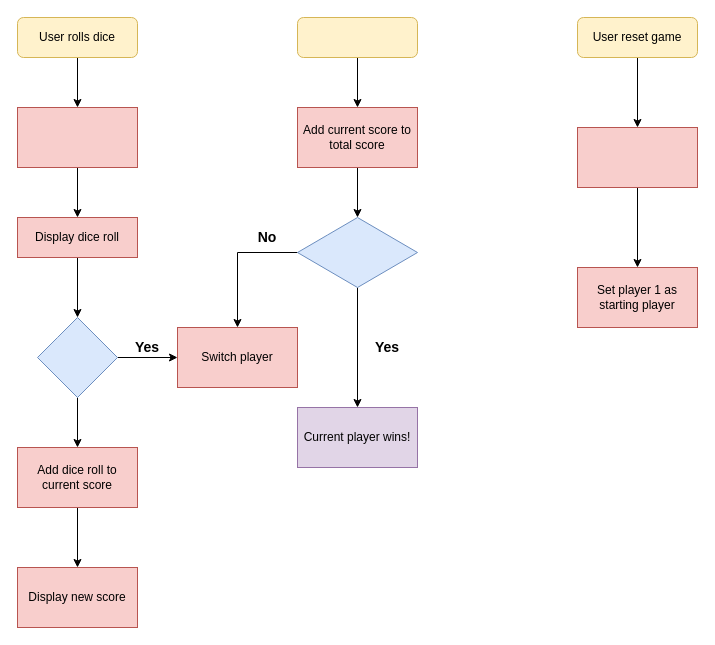
The diagram is 715 pixels wide and 645 high, and some of its shapes have lost their labels. The centre of each missing label's shape, as x and y in pixels:
Generate random dice roll: the point at 77,137
Is it 1?: the point at 77,357
Score >= 100?: the point at 357,252
Set all scores to 0: the point at 637,157
User holds score: the point at 357,37
